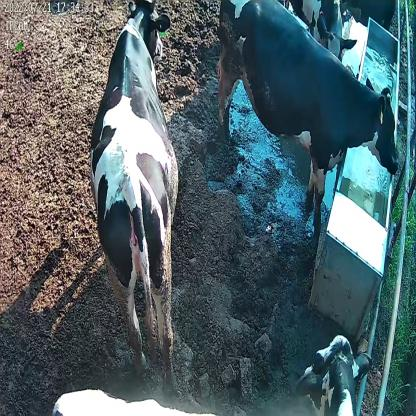cow: (216, 0, 402, 247), (92, 0, 181, 384)
